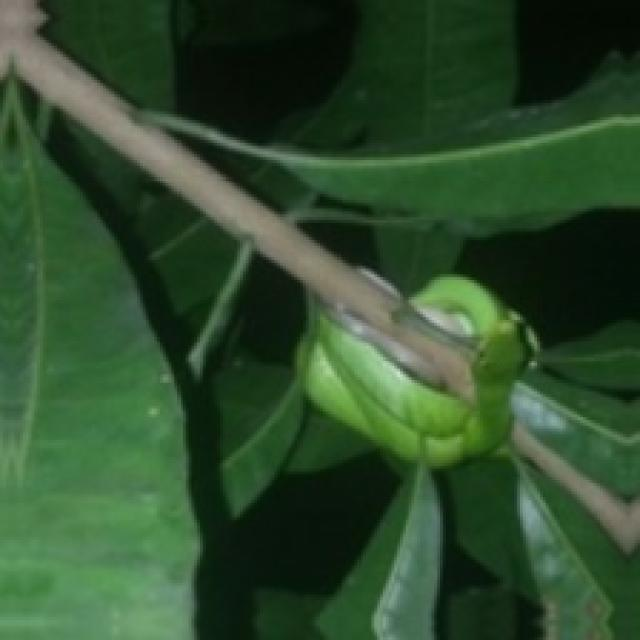red-tailed green ratsnake: (297, 274, 534, 466)
